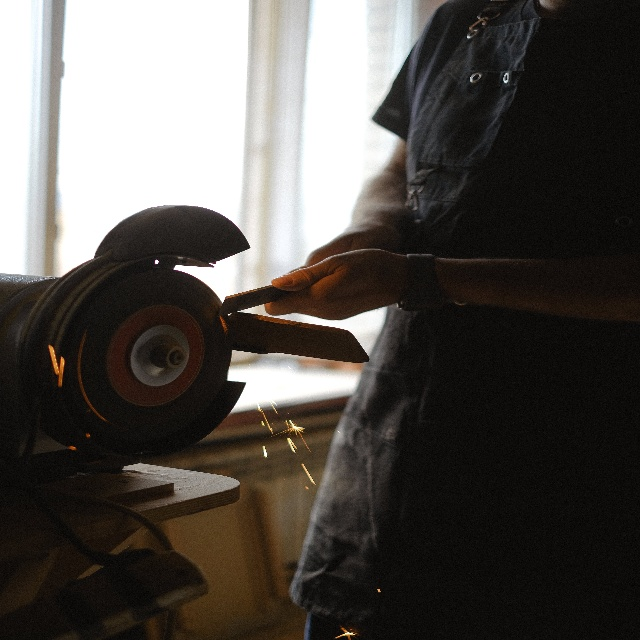Sin_guantes: (261, 247, 408, 322), (288, 231, 398, 273)
